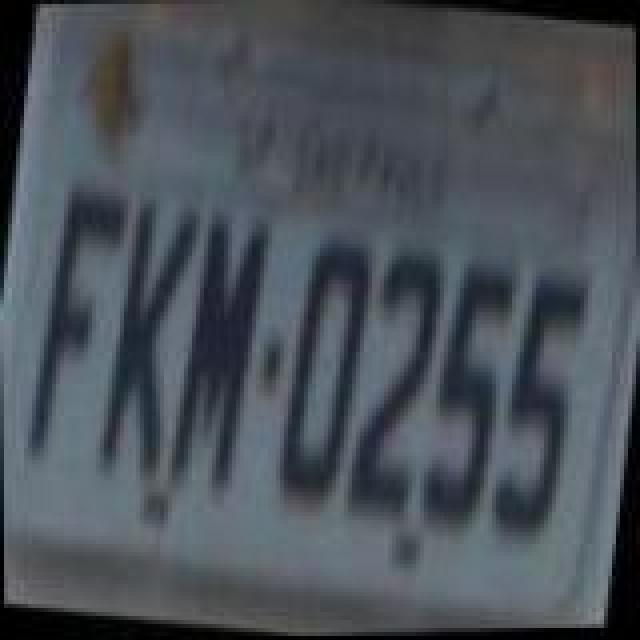2: (338, 240, 450, 524)
5: (480, 264, 596, 548), (410, 254, 522, 538)
F: (22, 180, 138, 468)
K: (94, 190, 210, 482)
M: (158, 204, 274, 500)
O: (268, 230, 380, 514)
